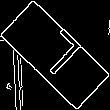L_SW: (27, 26, 83, 84)
